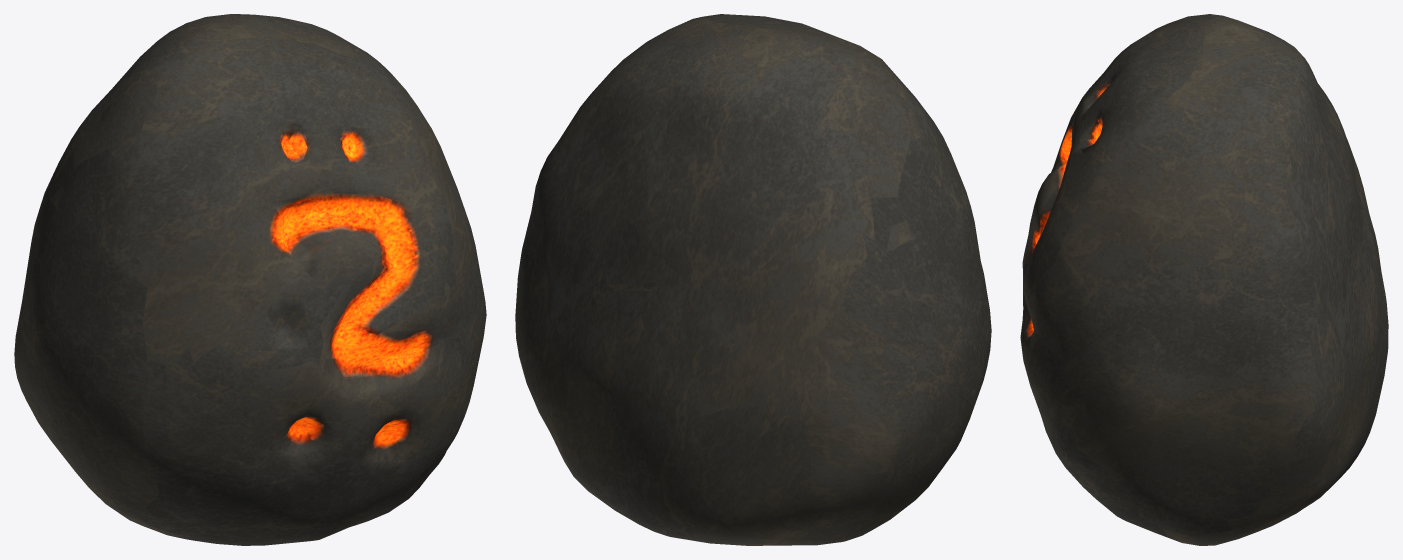
The model's file is meteor-4.glb.
The picture shows the model from 3 angles, left to right: view 1: azimuth 30°, elevation 25°; view 2: azimuth 150°, elevation 25°; view 3: azimuth 270°, elevation 25°; orthographic projection. The views are drawn at different scales.
Parts seen in each view (by area): view 1: Object_2; view 2: Object_2; view 3: Object_2.
Boxes of the visible parts, x1,y1,x2,y2 form: Object_2: [14, 14, 486, 545]; Object_2: [515, 14, 991, 545]; Object_2: [1020, 14, 1388, 545].
Bounding box in the file's own units: 2.64 × 3.13 × 2.24.
Materials: 1 (1 with a texture image).
